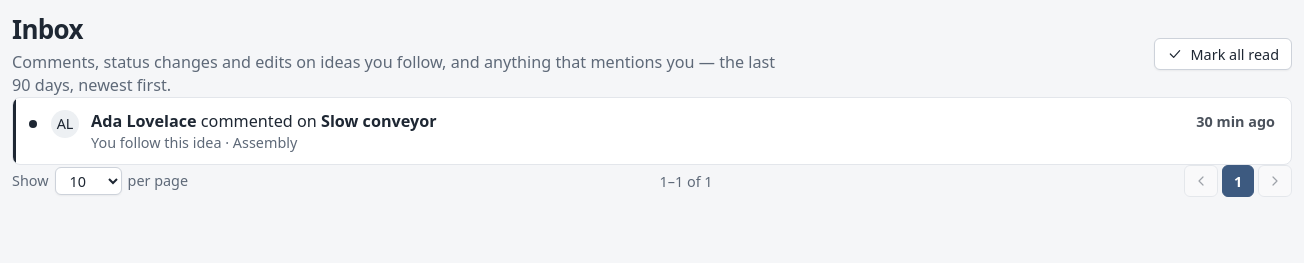
it: Mark all read › shows the API’s message when refused
The width and height of the screenshot is (1304, 263).
Click the button "Mark all read" at {"x": 1223, "y": 54}, box [1154, 38, 1292, 70]
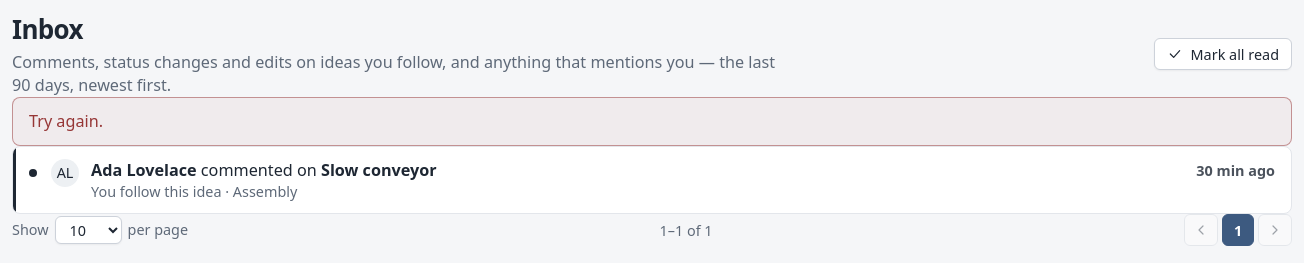
Now the message reads "Try again.", box [29, 110, 103, 132]
